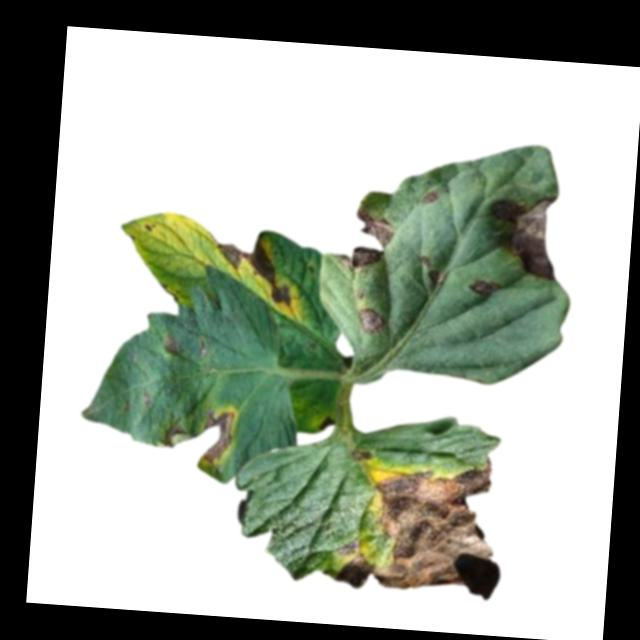Early_blight: (323, 445, 509, 602), (209, 231, 307, 318), (487, 192, 562, 283), (156, 402, 239, 472), (327, 208, 397, 273), (464, 275, 502, 301), (359, 306, 385, 340), (161, 335, 181, 357), (427, 268, 444, 288), (318, 416, 334, 433), (422, 191, 440, 205)
